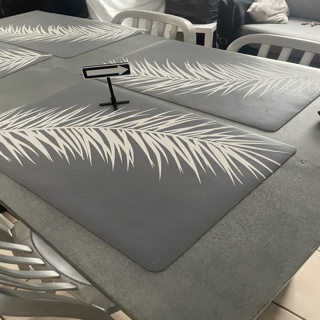sign_oneway_right: (80, 62, 127, 78)
